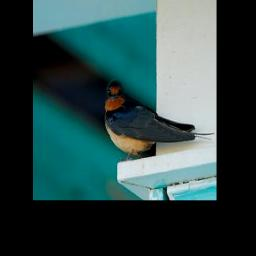Swallow: (101, 75, 214, 160)
